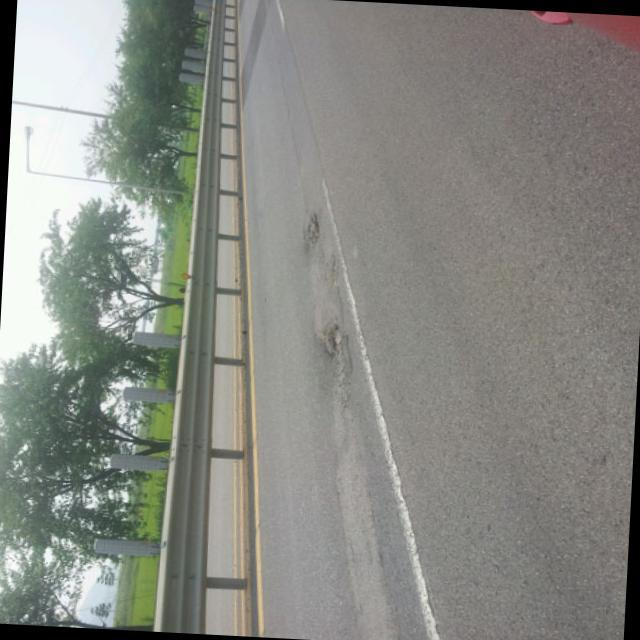pothole: (302, 308, 354, 372), (286, 208, 330, 260)
